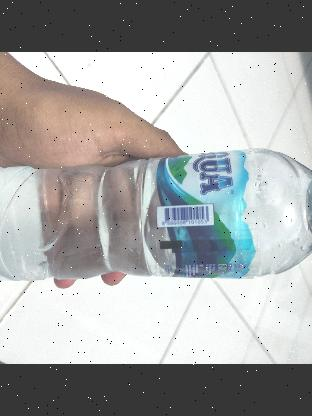Plastic Bottle: (0, 139, 312, 310)
